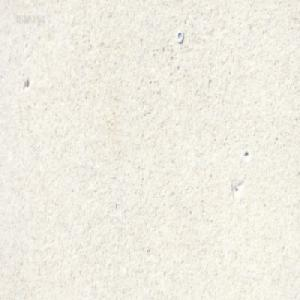Washer: (176, 29, 183, 43)
